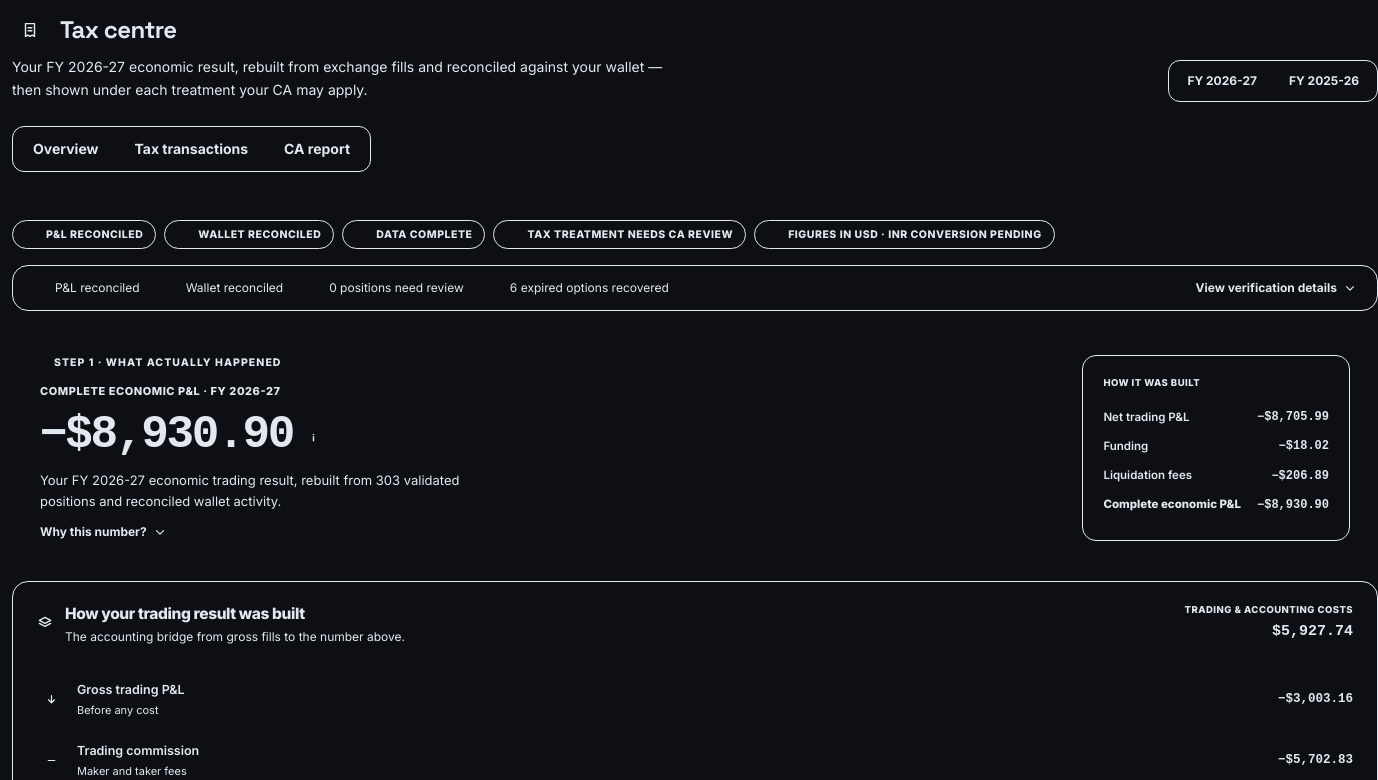
it: three views, each answering a different question › Tax transactions lists positions and keeps the two regimes apart
Click the button "Tax transactions" at (191, 148), box 118,130 -> 264,166
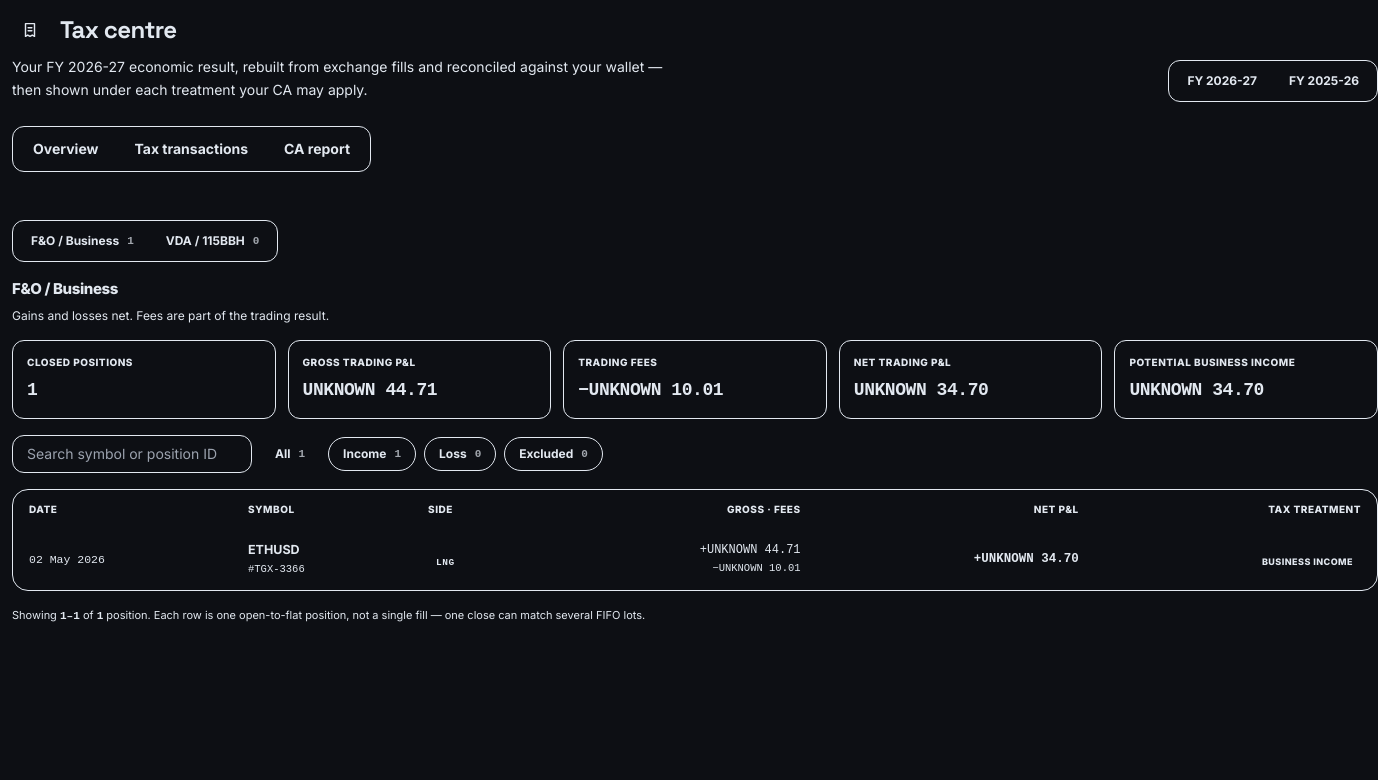
Now the text "ETHUSD" is shown, box 248,542 -> 300,557
Now the text "F&O / Business" is shown, box 17,224 -> 148,256
Now the text "one open-to-flat position" is shown, box 148,608 -> 645,622
